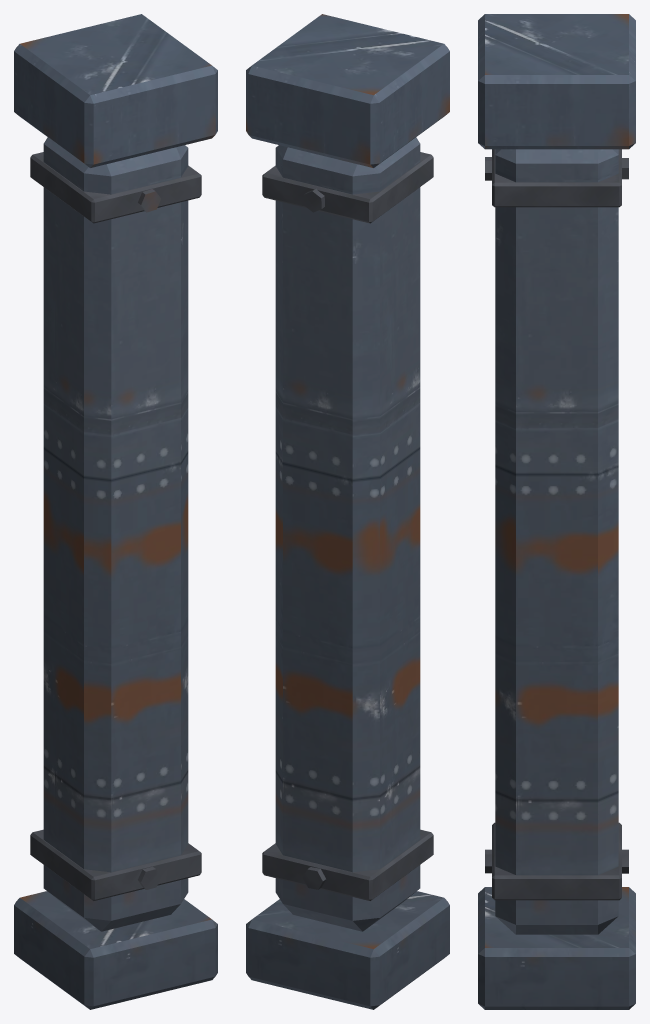
Rendered from sutun.glb.
3 views of the same model, side by side, from view 1: azimuth 30°, elevation 25°; view 2: azimuth 150°, elevation 25°; view 3: azimuth 270°, elevation 25° (orthographic). The views are drawn at different scales.
Visible parts, largest first — view 1: sutun; view 2: sutun; view 3: sutun.
Part boxes in pixels (x1,y1,x2,y2): sutun: [14, 14, 217, 1009]; sutun: [246, 14, 449, 1009]; sutun: [478, 14, 635, 1009].
Size of the model in its own units: 0.46 by 3.01 by 0.46.
1 material, 1 textured.
